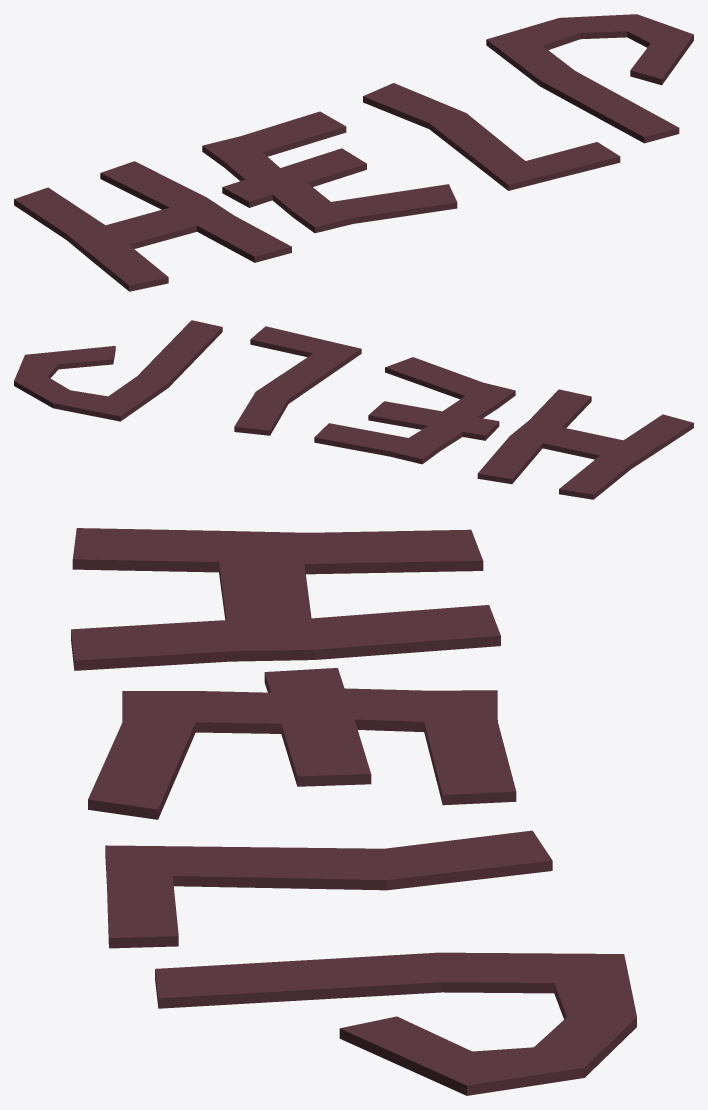
File: help-ground-apocalypse.fbx
3 renders of one model, top to bottom at view 1: azimuth 30°, elevation 25°; view 2: azimuth 150°, elevation 25°; view 3: azimuth 270°, elevation 25°, orthographic. The views are drawn at different scales.
Visible parts, largest first — view 1: help-ground-apocalypse; view 2: help-ground-apocalypse; view 3: help-ground-apocalypse.
Boxes of the visible parts, left/top/right/bottom form: help-ground-apocalypse: left=14, top=14, right=693, bottom=291; help-ground-apocalypse: left=14, top=320, right=693, bottom=499; help-ground-apocalypse: left=71, top=528, right=636, bottom=1095.
Bounding box in the file's own units: 6.89 × 0.0604 × 2.96.
